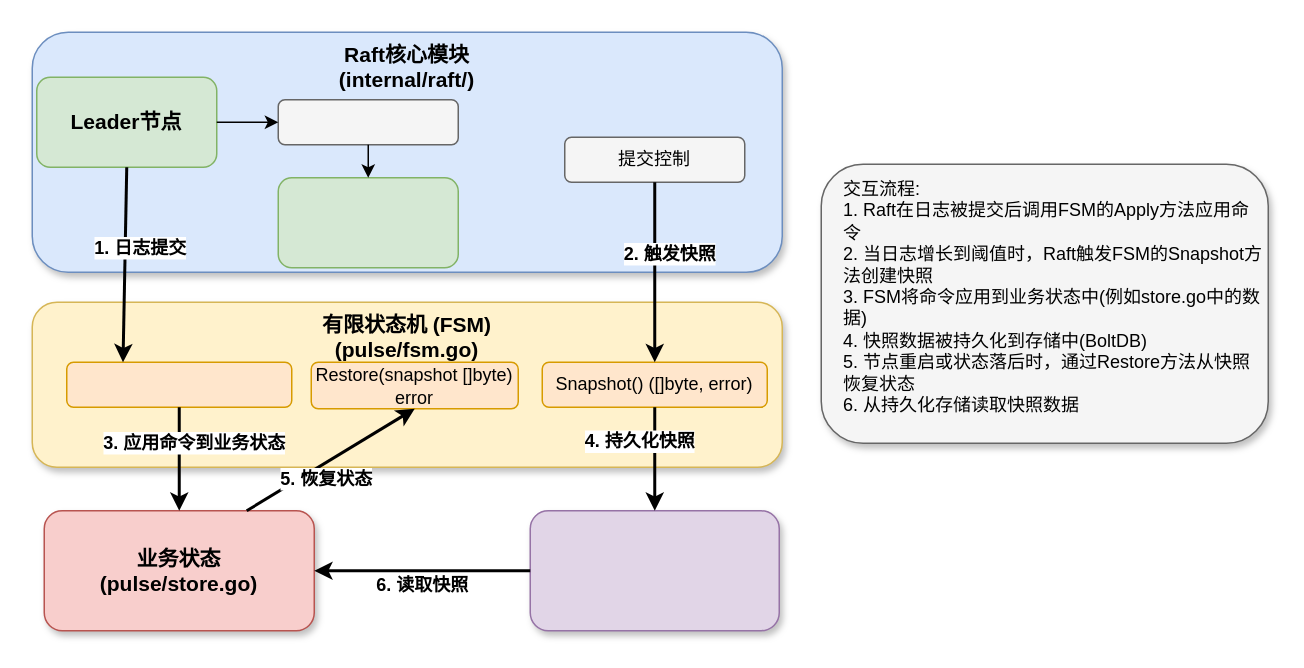
This 1304x668 diagram has some shape labels left out. Each missing label, with the centre of its shape:
Apply(cmd []byte) error: (178,384)
Follower节点: (367,222)
持久化存储 (internal/raft-boltdb/): (655,572)
日志复制: (367,121)
